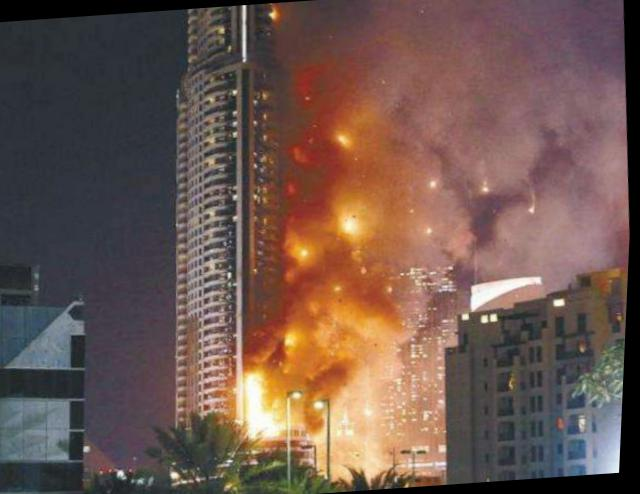fire: (226, 83, 418, 436)
